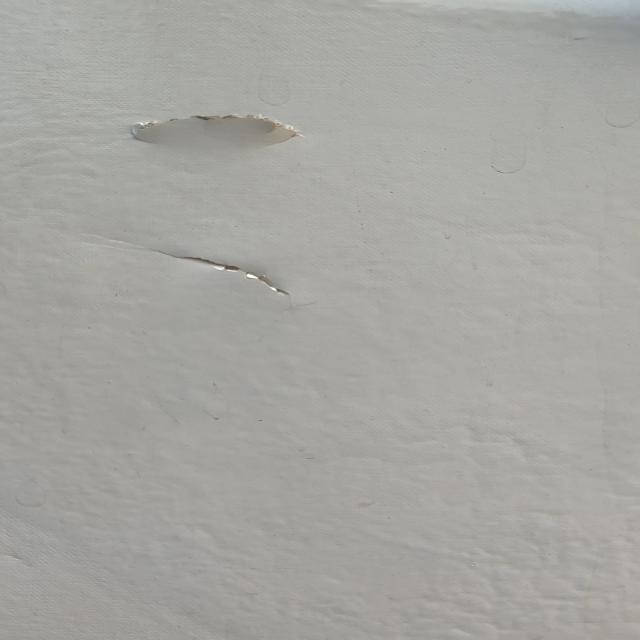Scratches: (118, 97, 308, 153), (153, 242, 298, 311)
